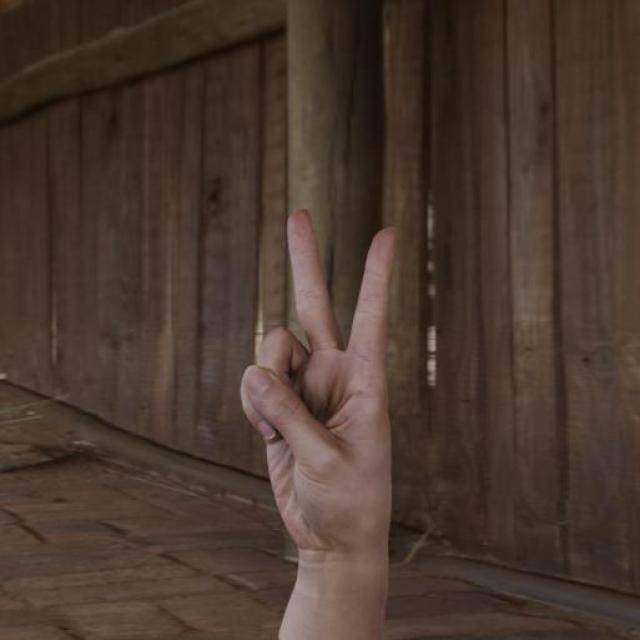V: (235, 211, 406, 571)
